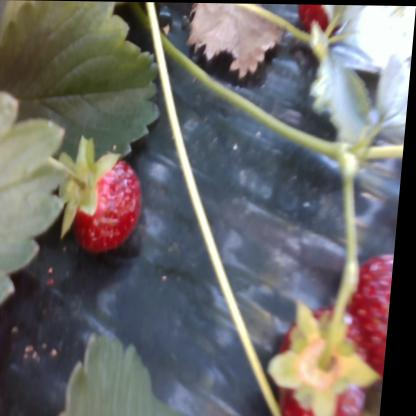ripe: (274, 302, 378, 416), (76, 156, 154, 254), (351, 249, 399, 368)
